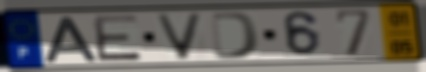6: (280, 10, 324, 58)
7: (333, 8, 374, 59)
A: (42, 15, 100, 64)
D: (208, 11, 263, 61)
E: (90, 13, 145, 63)
V: (152, 12, 206, 61)
